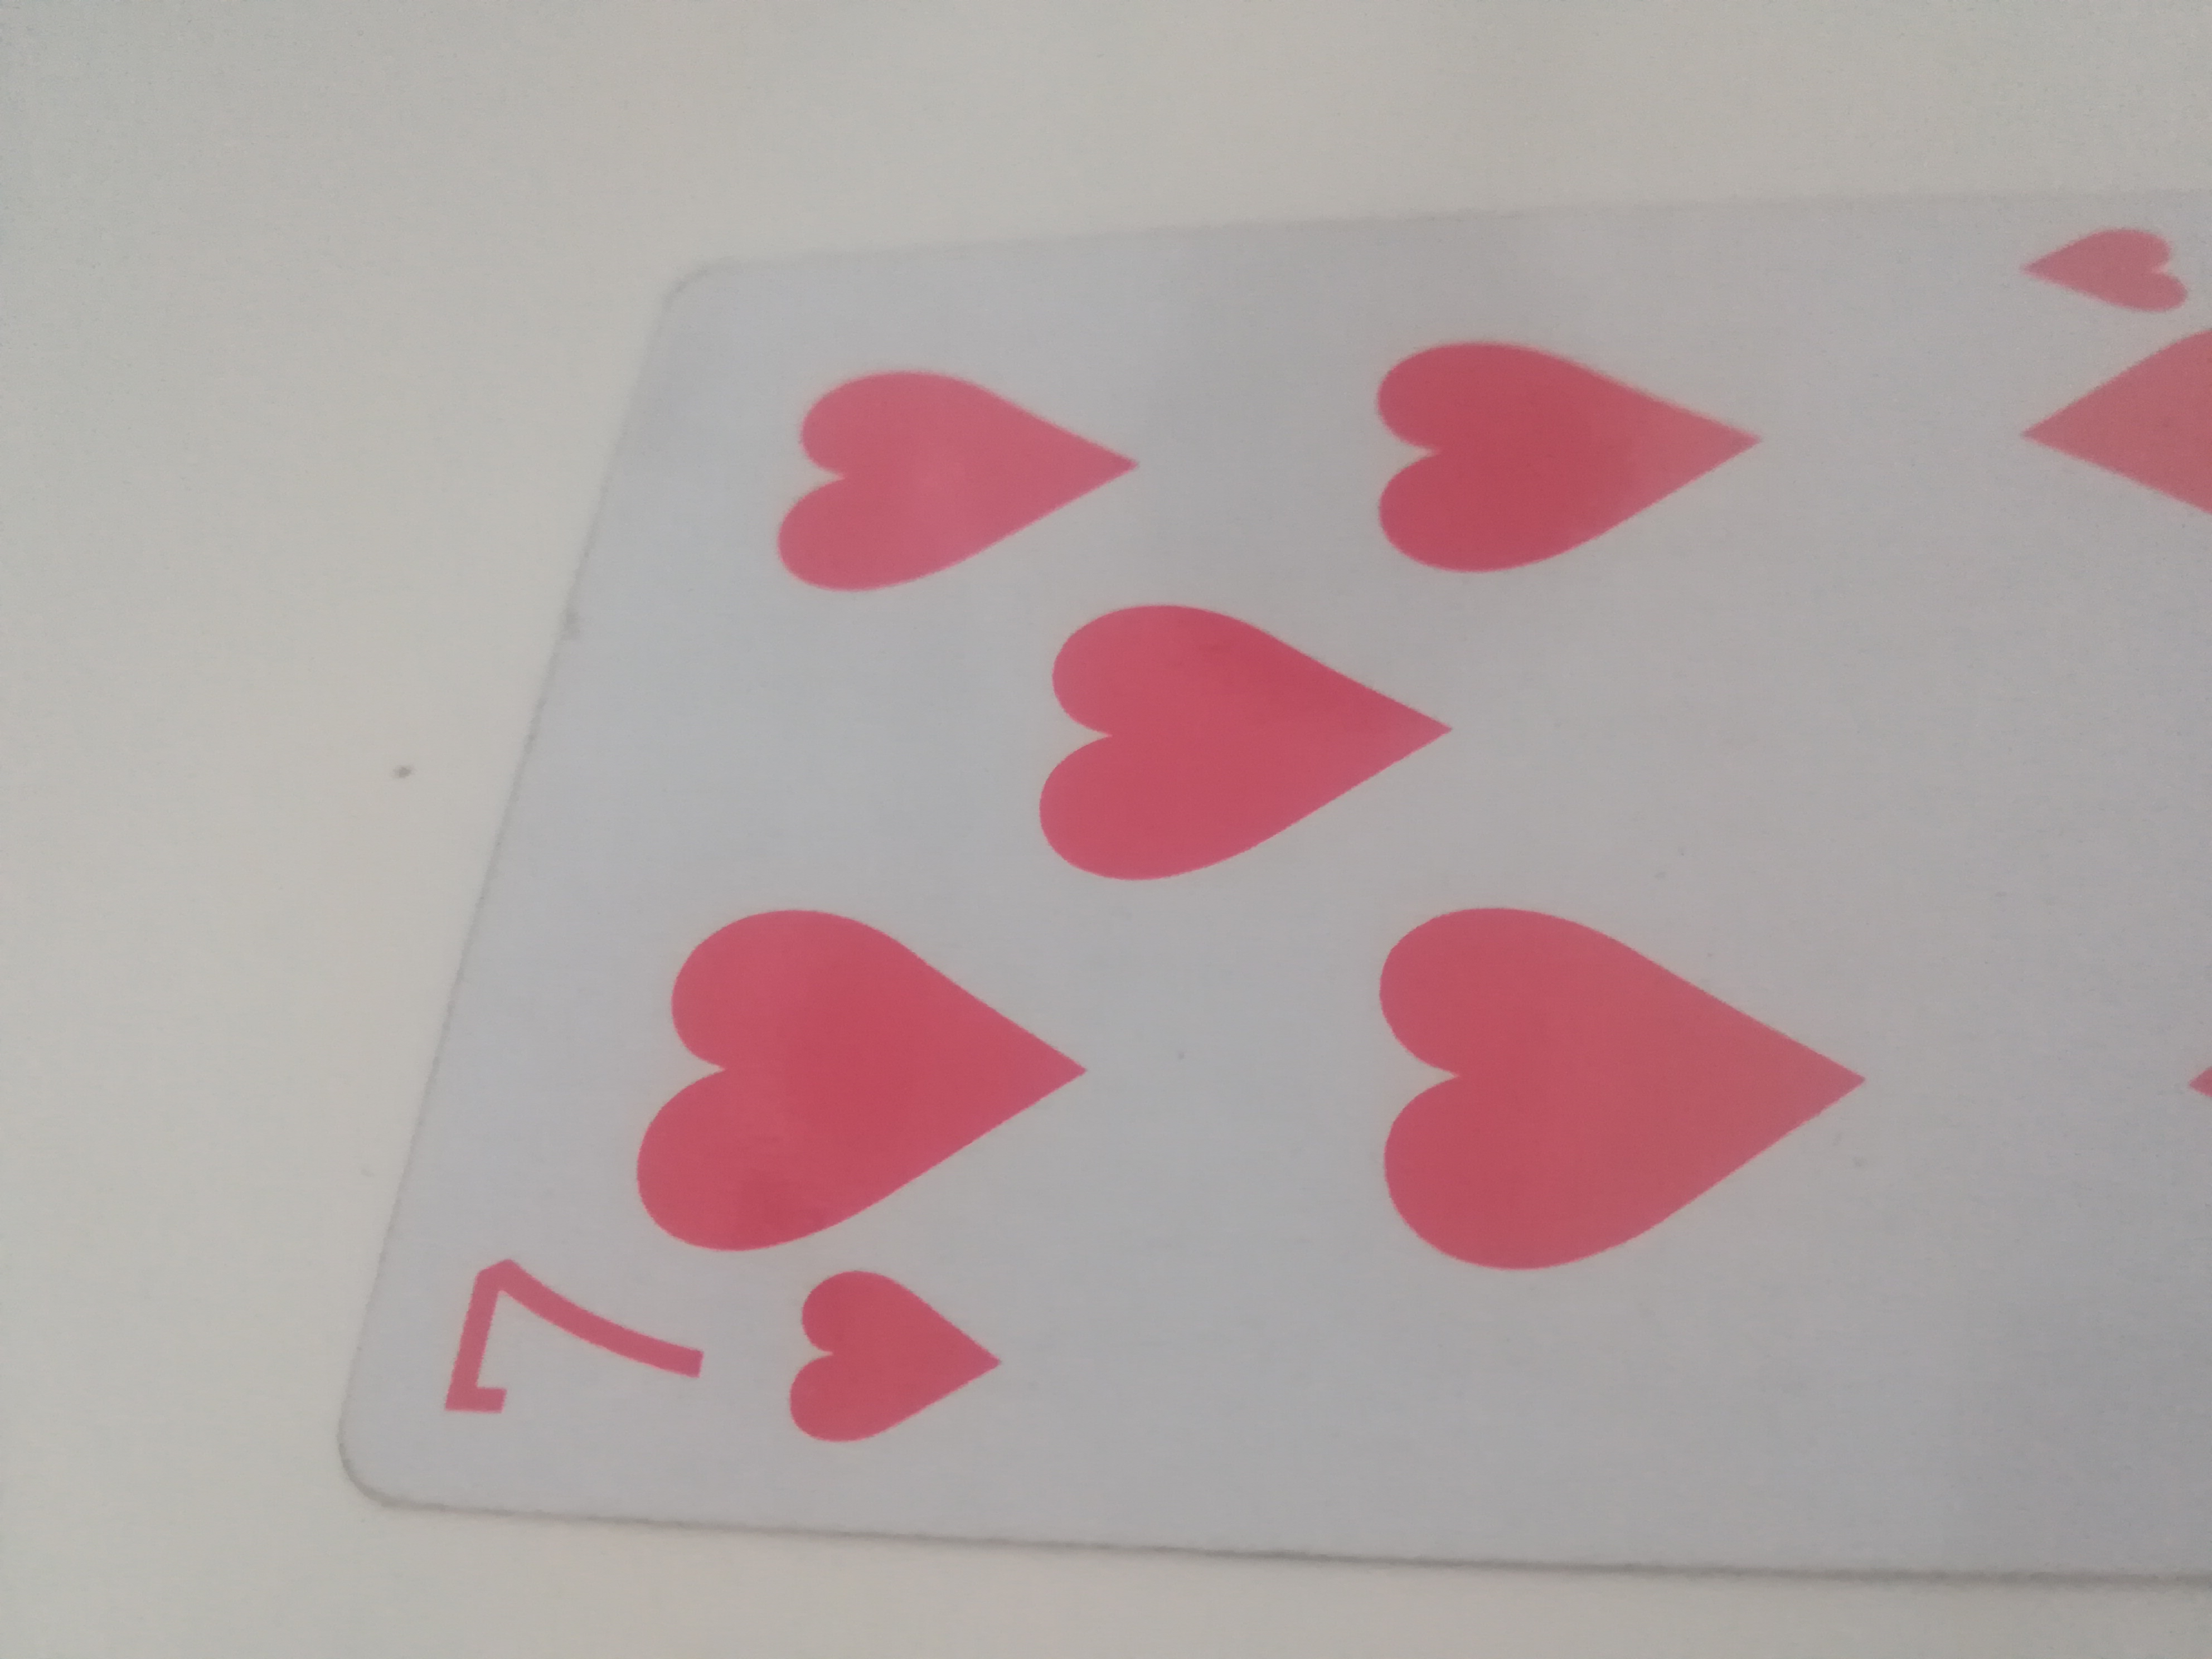7H: (347, 202, 2212, 1591)
